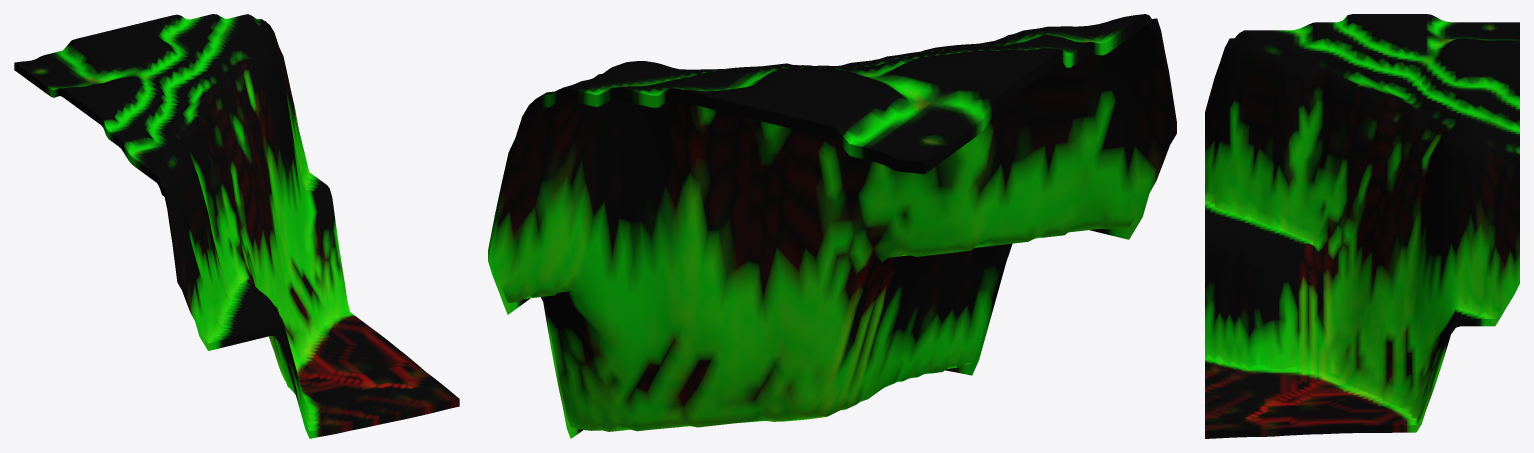
The model's file is Terrain_01_06.fbx.
3 views of the same model, side by side, from view 1: azimuth 30°, elevation 25°; view 2: azimuth 150°, elevation 25°; view 3: azimuth 270°, elevation 25° (orthographic). The views are drawn at different scales.
Parts seen in each view (by area): view 1: Terrain_01_06_LOD0; view 2: Terrain_01_06_LOD0; view 3: Terrain_01_06_LOD0.
Boxes of the visible parts, x1,y1,x2,y2 form: Terrain_01_06_LOD0: (14,14,459,438); Terrain_01_06_LOD0: (488,14,1176,438); Terrain_01_06_LOD0: (1205,14,1519,438).
Size of what is drawn, in the model's own units: 384 by 393 by 384.
